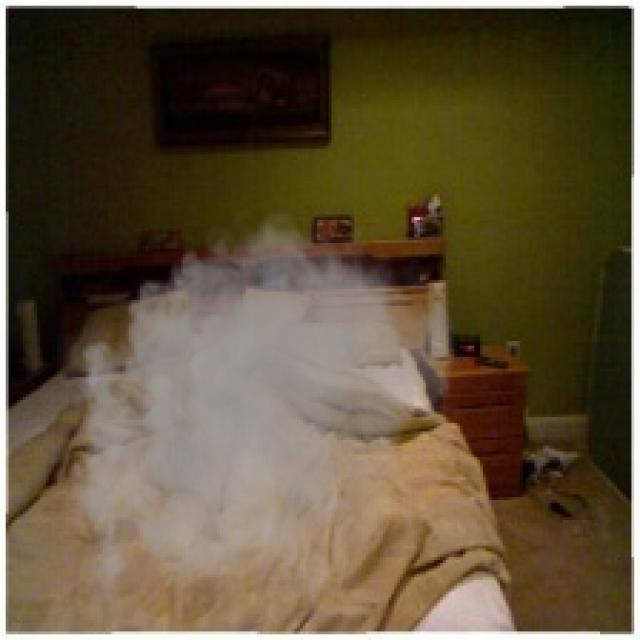smoke: (51, 200, 468, 623)
